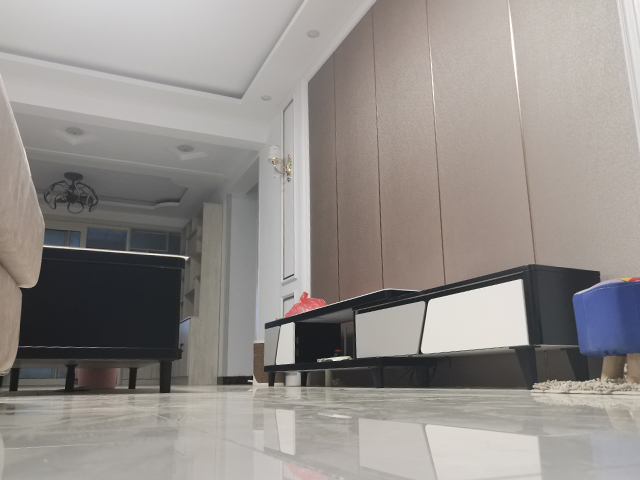cabinet: (261, 260, 604, 395)
carpet: (527, 377, 640, 397)
stool: (569, 276, 640, 382)
table: (4, 244, 194, 393)
